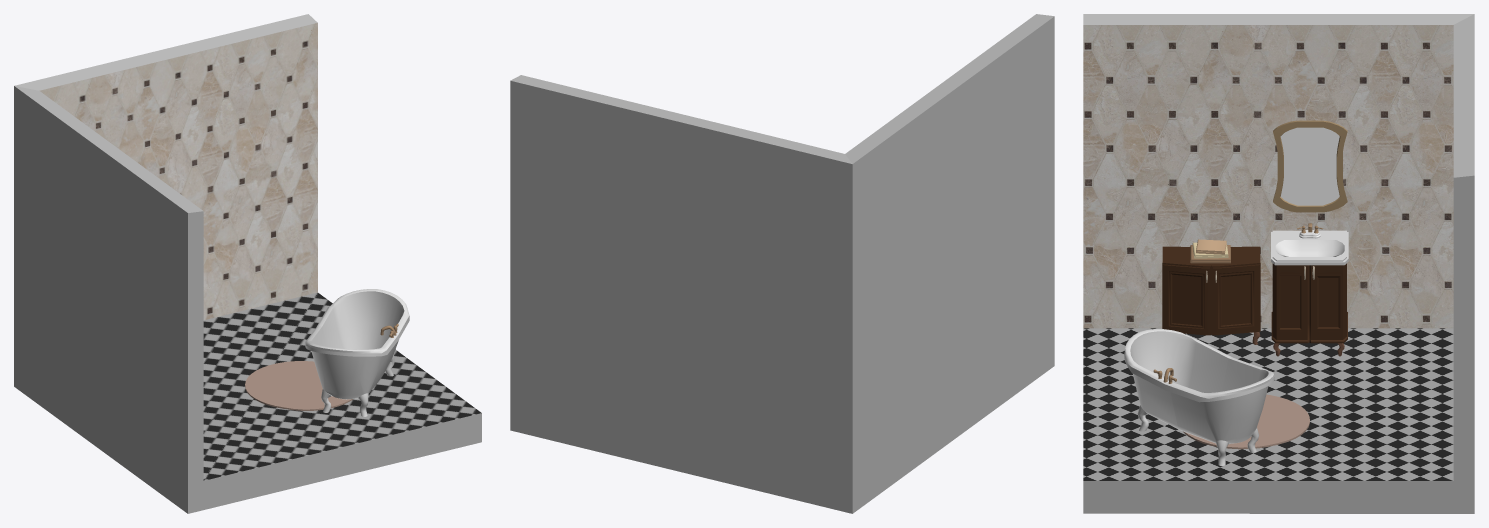
Rendered from room.glb.
The picture shows the model from 3 angles, left to right: view 1: azimuth 30°, elevation 25°; view 2: azimuth 150°, elevation 25°; view 3: azimuth 270°, elevation 25°; orthographic projection. The views are drawn at different scales.
Parts seen in each view (by area): view 1: Cube.001, Circle.002, Circle; view 2: Cube.001; view 3: Cube.001, Circle.002, Circle.010, Plane.000, Plane.001, Circle.
Part boxes in pixels (left/top/right/bottom): Cube.001: left=14, top=14, right=481, bottom=513; Circle.002: left=305, top=289, right=409, bottom=416; Circle: left=245, top=361, right=353, bottom=410; Cube.001: left=510, top=14, right=1054, bottom=513; Cube.001: left=1083, top=14, right=1474, bottom=513; Circle.002: left=1124, top=329, right=1274, bottom=465; Circle.010: left=1271, top=230, right=1348, bottom=343; Plane.000: left=1162, top=246, right=1260, bottom=335; Plane.001: left=1273, top=120, right=1347, bottom=212; Circle: left=1183, top=394, right=1309, bottom=449.
Size of the model in its own units: 8.32 by 8.12 by 8.51.
Materials: 16 (2 with a texture image).
